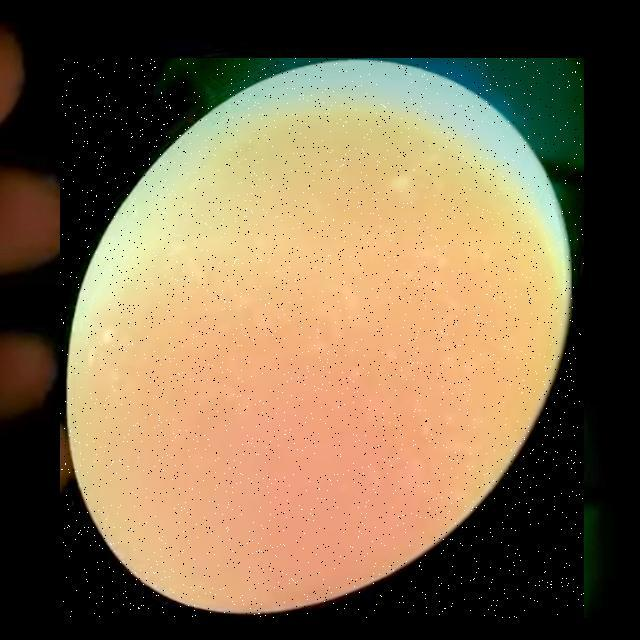AA - Premium: (60, 58, 584, 618)
